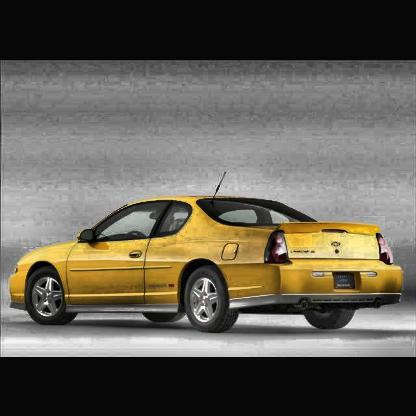Chevrolet Monte Carlo Coupe 2007: (9, 172, 406, 335)
